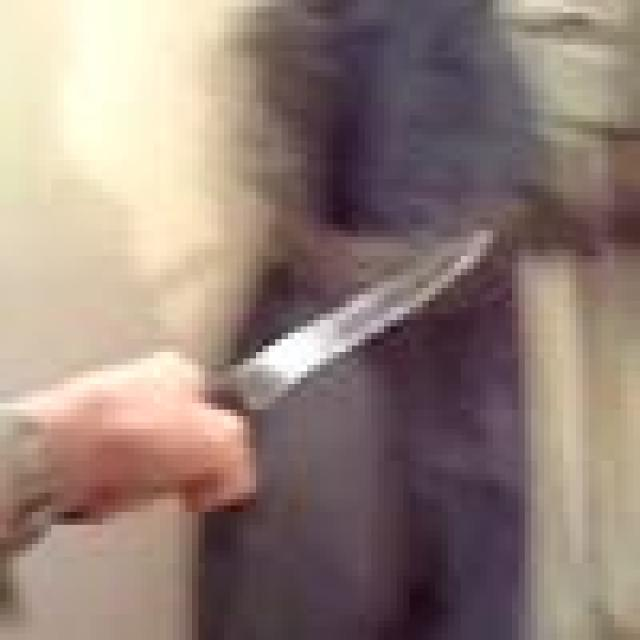knife: (213, 234, 487, 409)
